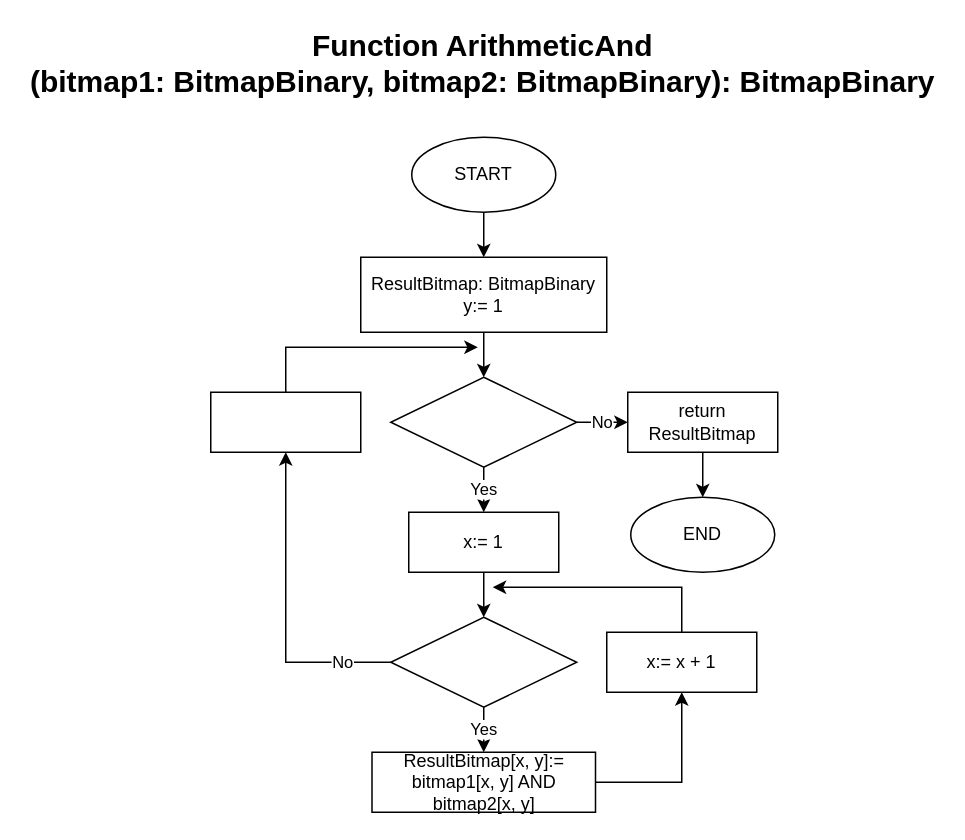
The diagram is 965 pixels wide and 840 high, and some of its shapes have lost their labels. The shapes that lost their labels are listed below. From the top down, each one's centre as x and y in pixels, then its label:
the point at 285,421: y:= y + 1
the point at 483,421: y <= imageHeight
the point at 483,661: x <= imageWidth
